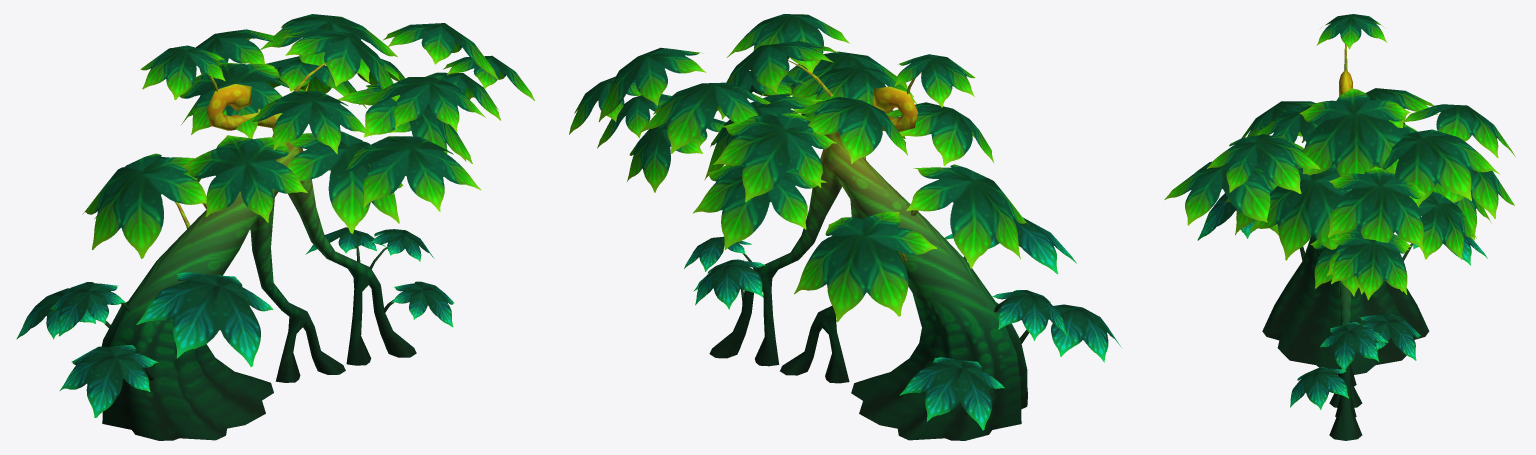
Rendered from Green_Tree_02a.FBX.
3 views of the same model, side by side, from view 1: azimuth 30°, elevation 25°; view 2: azimuth 150°, elevation 25°; view 3: azimuth 270°, elevation 25° (orthographic). The views are drawn at different scales.
Visible parts, largest first — view 1: Green_Tree_02a; view 2: Green_Tree_02a; view 3: Green_Tree_02a.
Part boxes in pixels (<box>): Green_Tree_02a: <box>16,14,534,440</box>; Green_Tree_02a: <box>569,14,1121,440</box>; Green_Tree_02a: <box>1164,14,1515,440</box>.
Size of the model in its own units: 246 by 162 by 166.
